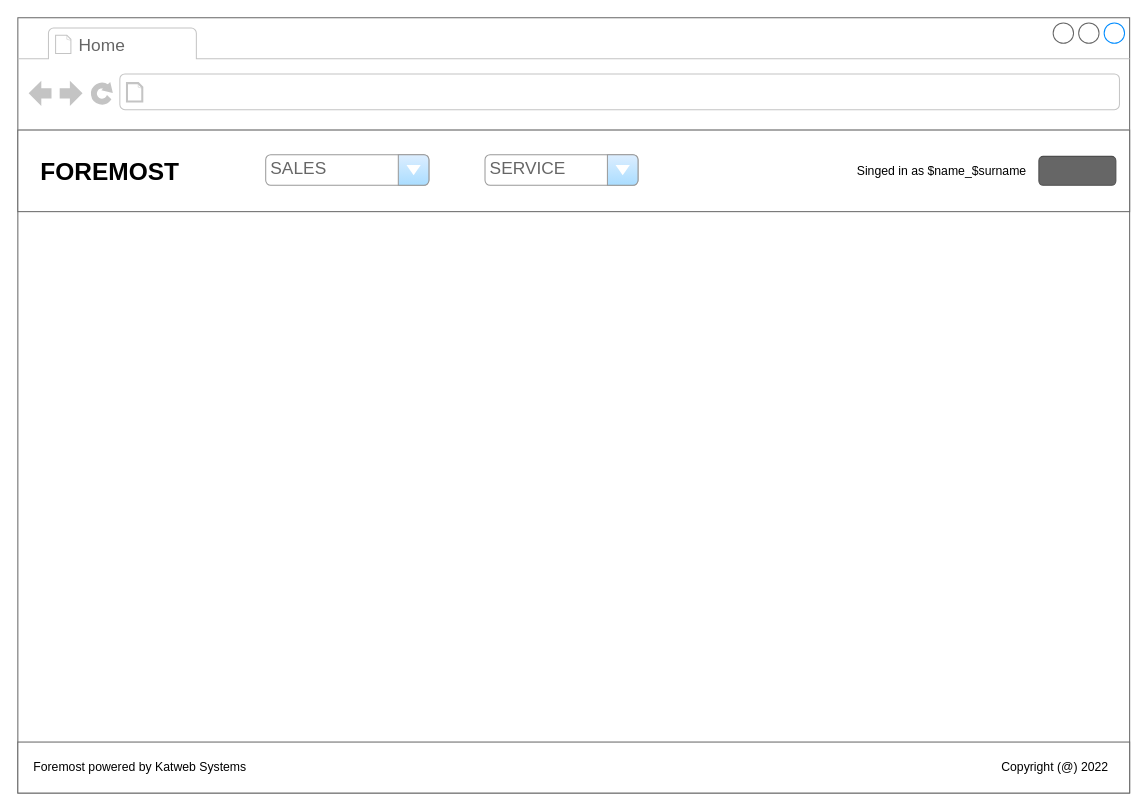
This 1148x811 diagram has some shape labels left out. Here are the shapes that lost their labels. From the top down, the box of each, then its label:
(149, 78, 405, 106): https://www.foremost.io
(1038, 155, 1116, 185): Logout
